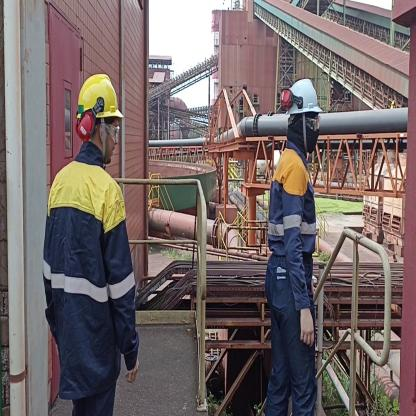Balaclava: (288, 115, 320, 154)
C_eletrica: (38, 167, 140, 379)
Capacete: (73, 68, 127, 118), (284, 74, 324, 114)
Operacional: (267, 150, 318, 303)
